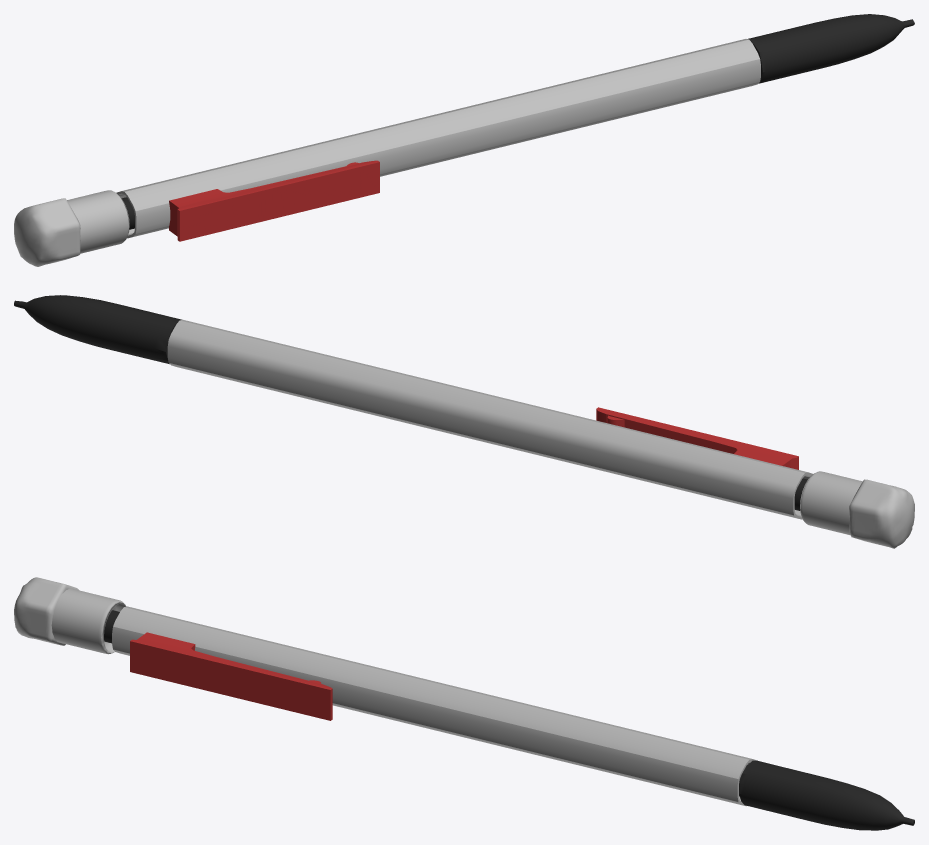
The model's file is Mechanical Pencil.glb.
The picture shows the model from 3 angles, top to bottom: view 1: azimuth 30°, elevation 25°; view 2: azimuth 150°, elevation 25°; view 3: azimuth 330°, elevation 25°; orthographic projection.
Parts seen in each view (by area): view 1: Object_5, Object_7, Object_3, Object_2, Object_4; view 2: Object_5, Object_3, Object_2, Object_7, Object_4; view 3: Object_5, Object_7, Object_3, Object_4, Object_2.
Part boxes in pixels (box(x1,y1,x2,y2)): Object_5: box(116, 39, 760, 238); Object_7: box(169, 160, 379, 241); Object_3: box(748, 14, 914, 83); Object_2: box(14, 198, 80, 266); Object_4: box(67, 190, 129, 253); Object_5: box(167, 319, 812, 519); Object_3: box(14, 295, 181, 364); Object_2: box(849, 479, 914, 548); Object_7: box(596, 407, 798, 469); Object_4: box(800, 471, 862, 535); Object_5: box(112, 606, 757, 806); Object_7: box(130, 632, 332, 720); Object_3: box(739, 760, 914, 830); Object_4: box(51, 588, 126, 654); Object_2: box(14, 577, 79, 645).
Size of the model in its own units: 20.14 by 1.33 by 1.55.
